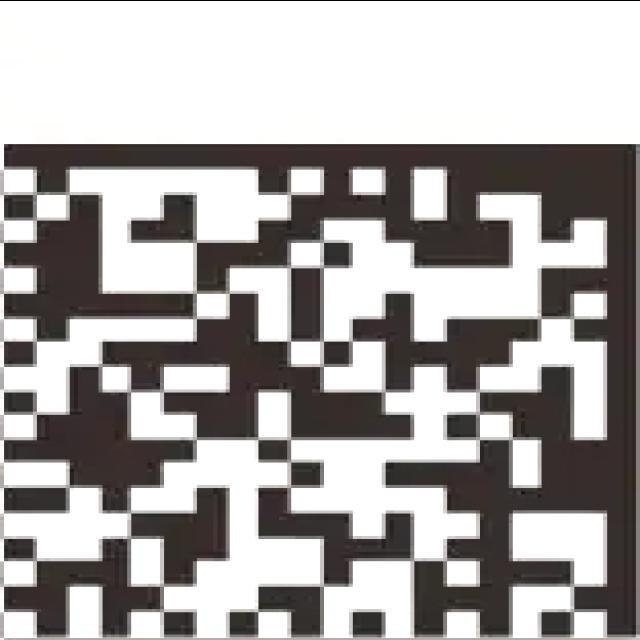Data-Matrix: (4, 143, 640, 637)
